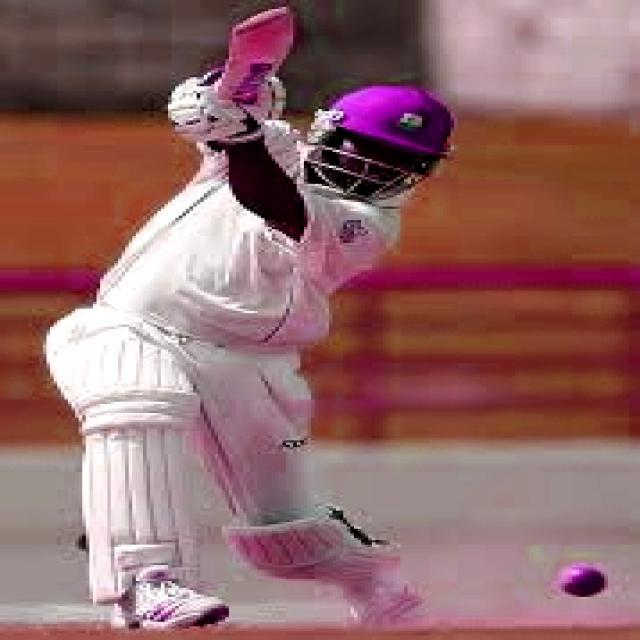bat: (218, 5, 304, 106)
toe: (225, 9, 293, 29)
